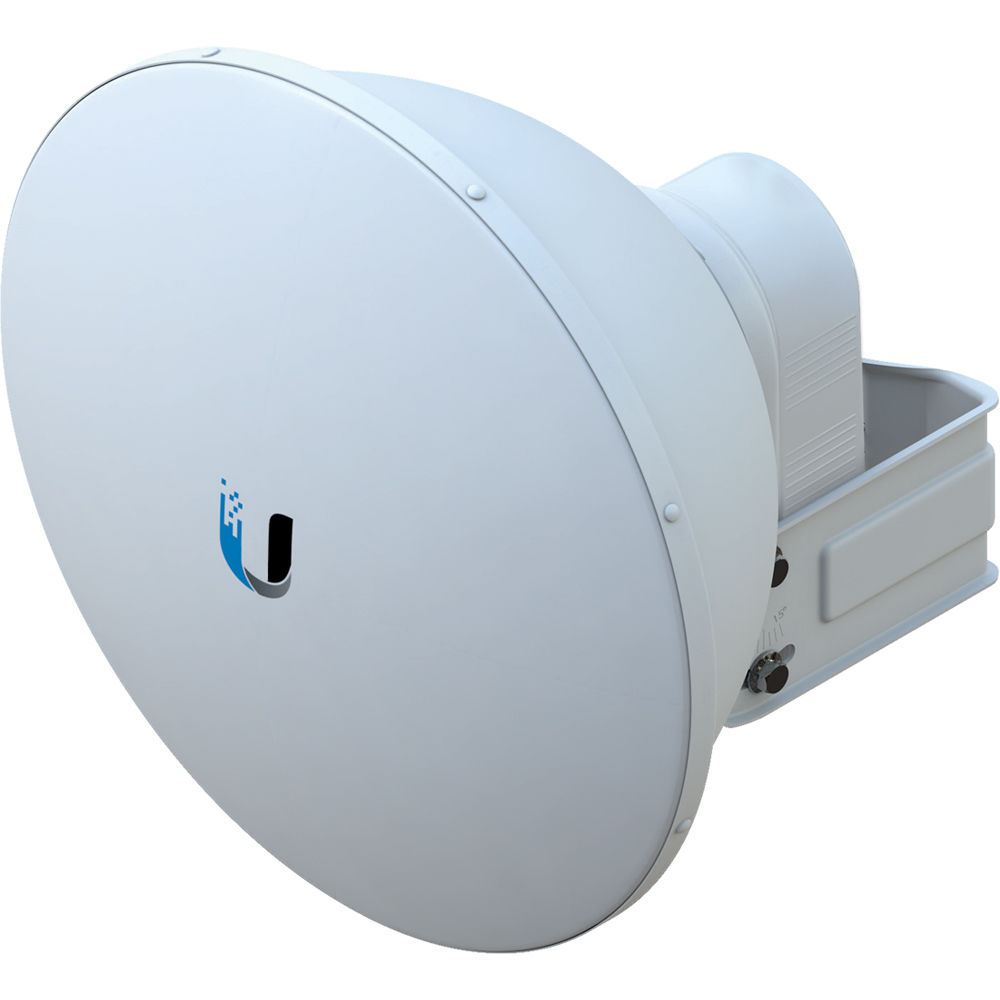ba: (15, 6, 963, 993)
